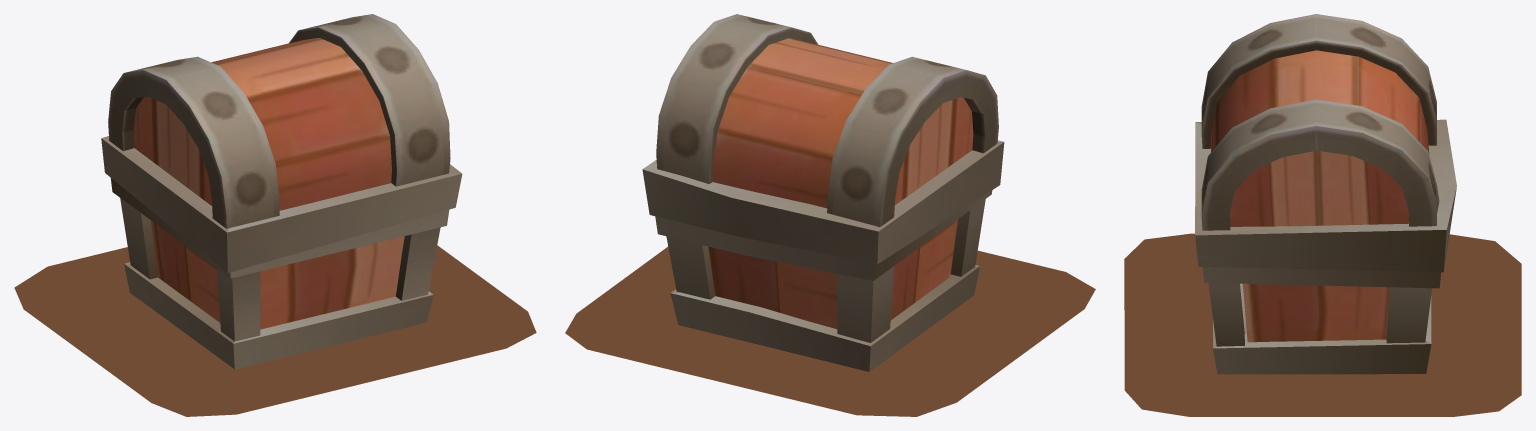
The model's file is TreasureChest1.fbx.
3 views of the same model, side by side, from view 1: azimuth 30°, elevation 25°; view 2: azimuth 150°, elevation 25°; view 3: azimuth 270°, elevation 25° (orthographic).
Parts seen in each view (by area): view 1: ChestLid, ShadowSquare, ChestBody; view 2: ChestLid, ShadowSquare, ChestBody; view 3: ChestLid, ShadowSquare, ChestBody.
Boxes of the visible parts, left/top/right/bottom form: ChestLid: left=101, top=14, right=462, bottom=272; ShadowSquare: left=14, top=245, right=536, bottom=416; ChestBody: left=110, top=178, right=449, bottom=369; ChestLid: left=642, top=14, right=1004, bottom=264; ShadowSquare: left=565, top=246, right=1095, bottom=416; ChestBody: left=655, top=190, right=992, bottom=371; ChestLid: left=1195, top=14, right=1456, bottom=272; ShadowSquare: left=1124, top=233, right=1521, bottom=416; ChestBody: left=1202, top=267, right=1441, bottom=374.
Size of the model in its own units: 1.18 by 0.7864 by 1.08.
Materials: 2 (1 with a texture image).
